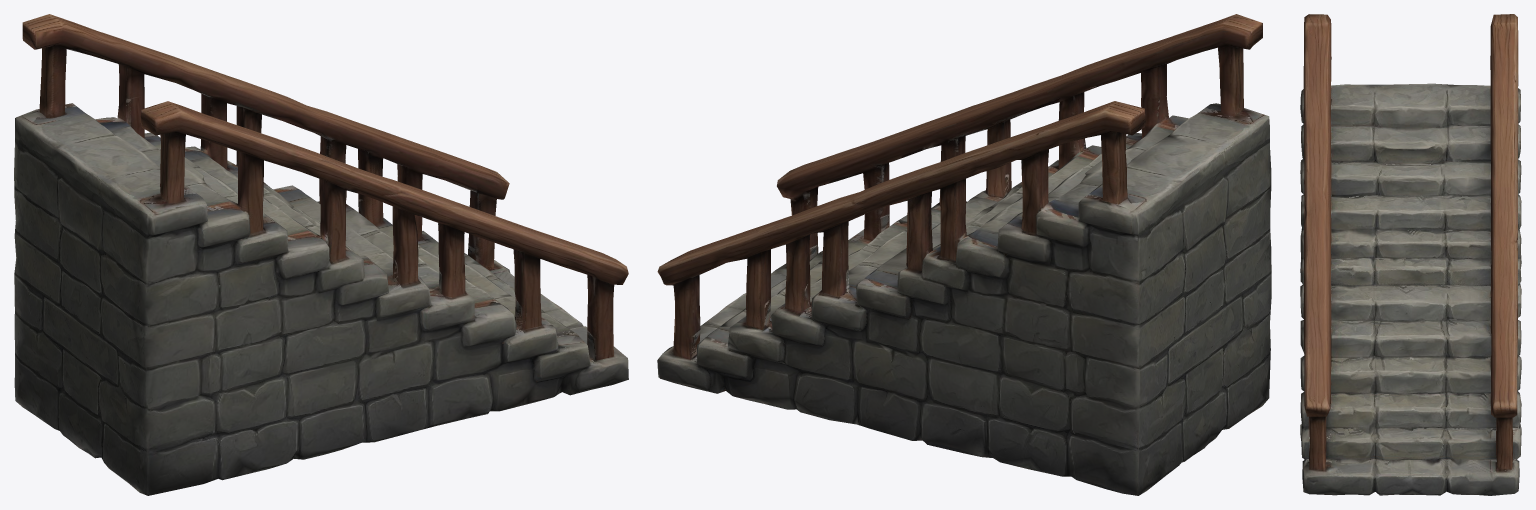
File: SM_Env_Stairs.fbx
3 renders of one model, left to right at view 1: azimuth 30°, elevation 25°; view 2: azimuth 150°, elevation 25°; view 3: azimuth 270°, elevation 25°, orthographic. The views are drawn at different scales.
Parts seen in each view (by area): view 1: SM_Env_Stairs; view 2: SM_Env_Stairs; view 3: SM_Env_Stairs.
Boxes of the visible parts, x1,y1,x2,y2 form: SM_Env_Stairs: (14, 14, 628, 495); SM_Env_Stairs: (657, 14, 1271, 495); SM_Env_Stairs: (1300, 14, 1521, 495).
Bounding box in the file's own units: 4 × 3 × 2.
